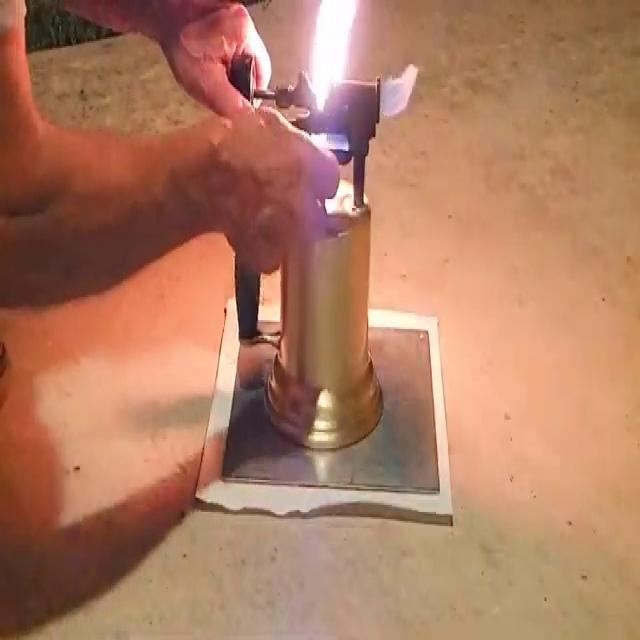fire: (304, 1, 368, 126)
